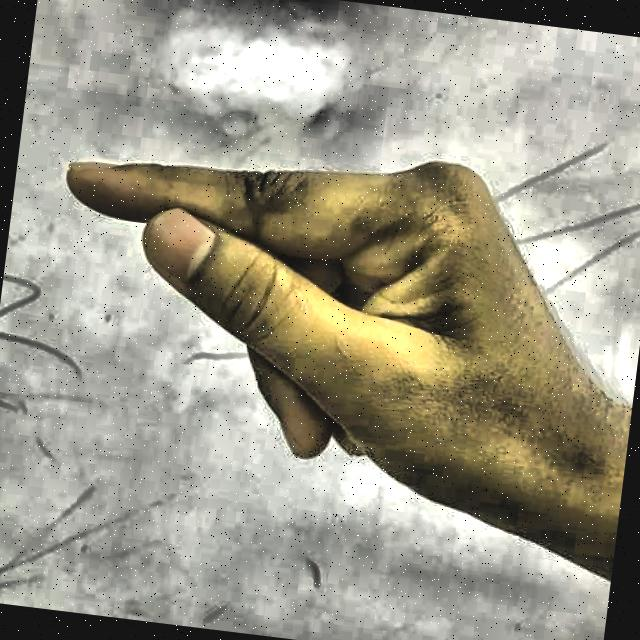Tha: (5, 87, 640, 597)
